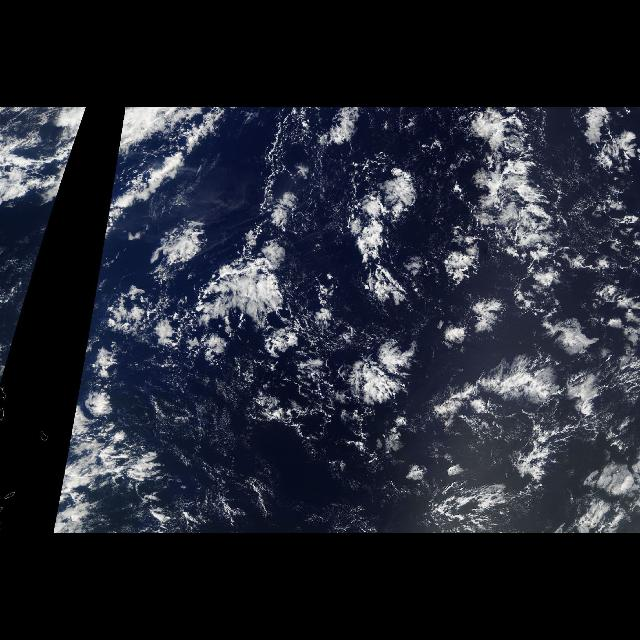Flower: (208, 111, 640, 533)
